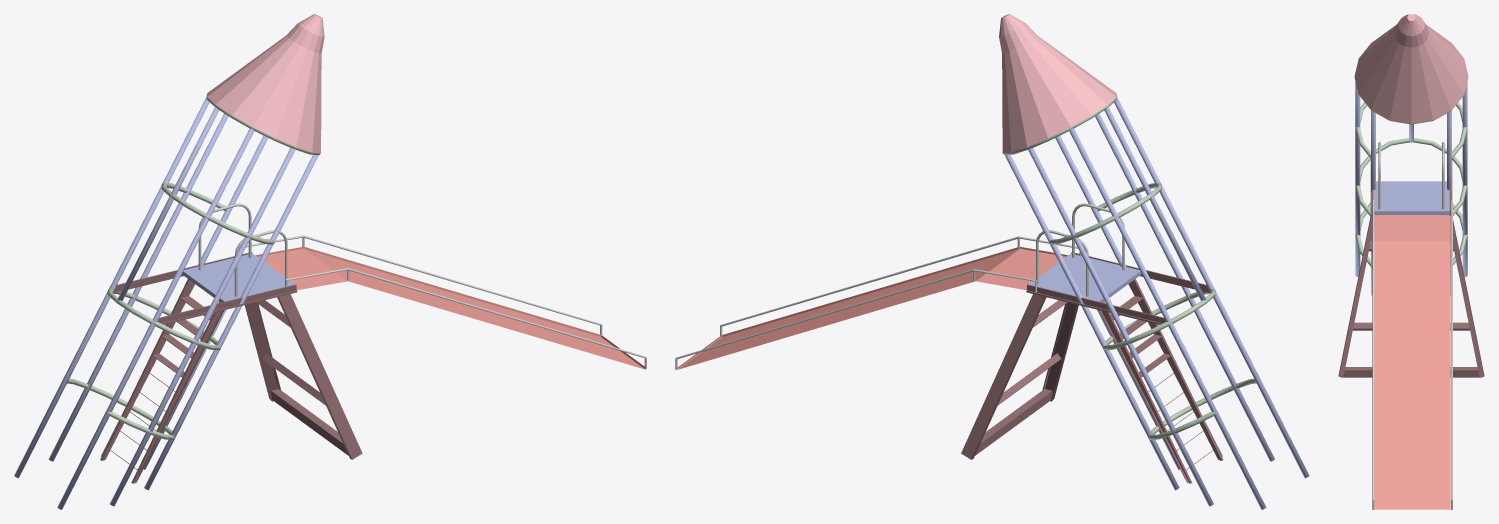
File: play_399.glb
3 views of the same model, side by side, from view 1: azimuth 30°, elevation 25°; view 2: azimuth 150°, elevation 25°; view 3: azimuth 270°, elevation 25° (orthographic). The views are drawn at different scales.
Visible parts, largest first — view 1: play_399; view 2: play_399; view 3: play_399.
Boxes of the visible parts, <box> form: play_399: <box>14,14,646,509</box>; play_399: <box>675,14,1309,509</box>; play_399: <box>1338,14,1484,509</box>.
Size of the model in its own units: 5.06 by 3.4 by 1.24.
1 material, 1 textured.
